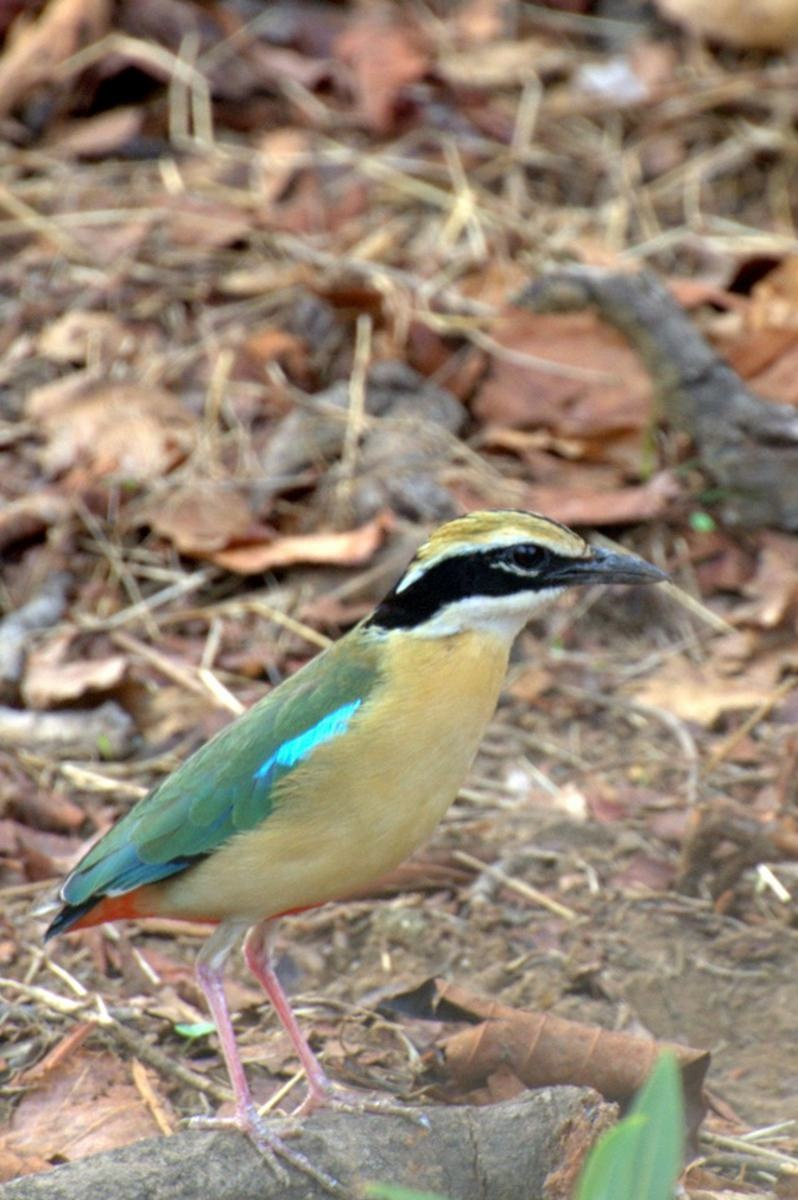pitta: (26, 499, 660, 1041)
